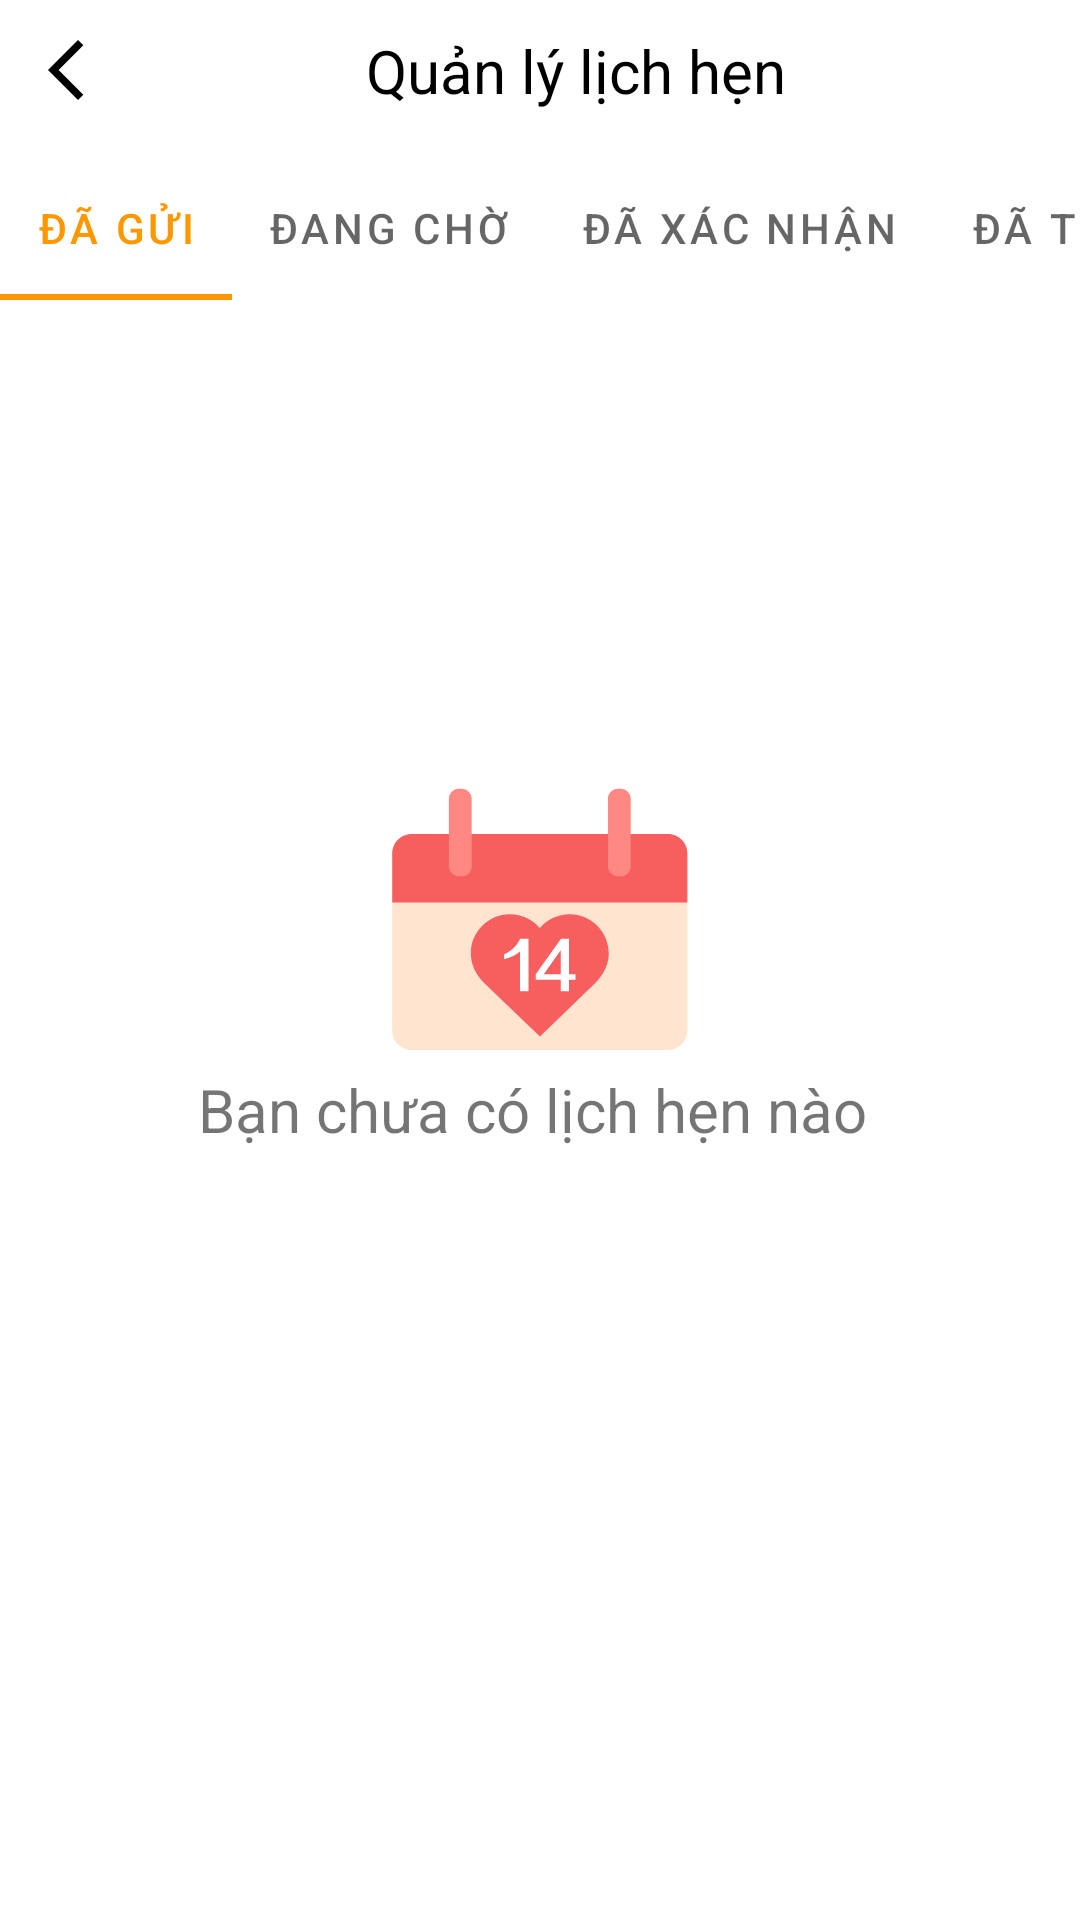

Icon click points for this 1080 × 1920 phone screenshot, format point (x, y):
back: point (65, 70)
